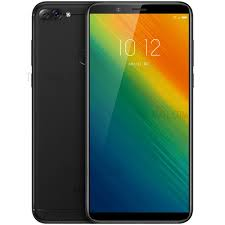lenovo: (83, 1, 193, 223)
